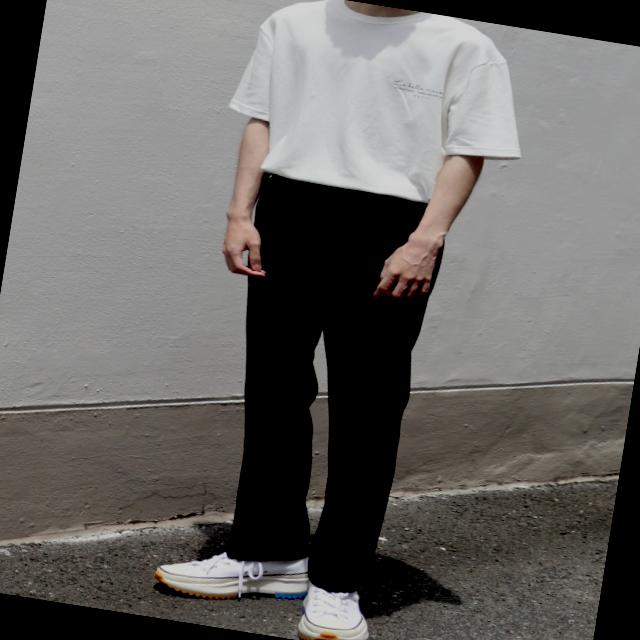shortsleeve: (225, 0, 546, 212)
slacks: (192, 178, 443, 612)
